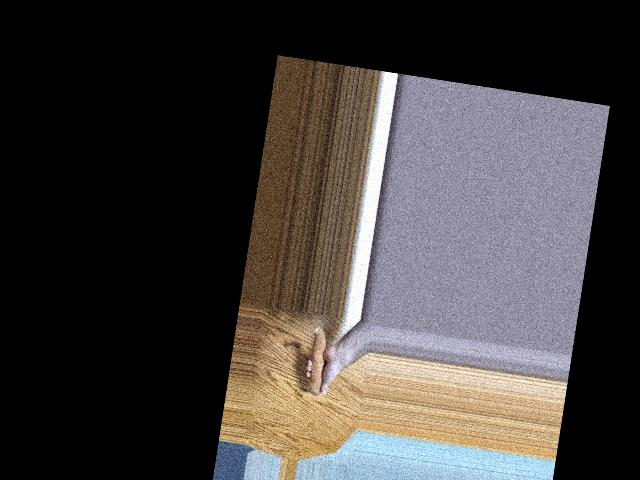sweet_potato: (306, 326, 336, 394)
